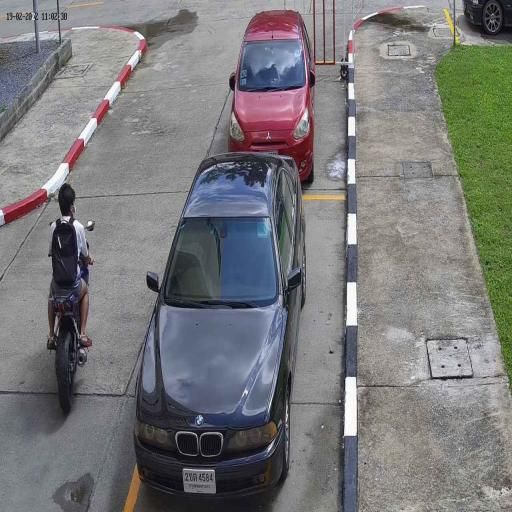car: (132, 152, 308, 503), (228, 7, 316, 184)
motorcycle: (46, 283, 89, 421)
